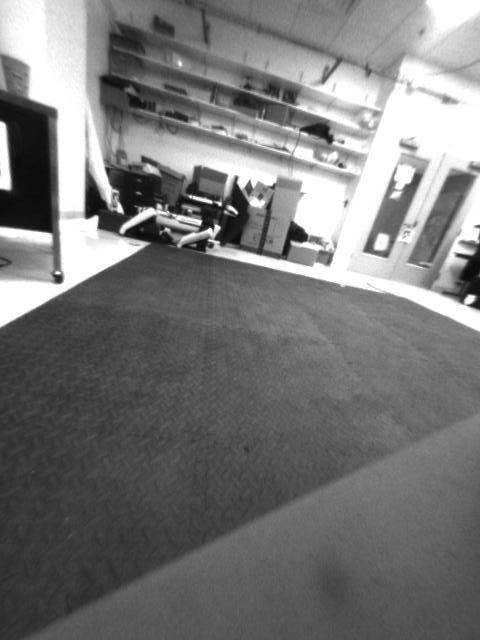coffee_cup: (1, 54, 33, 97)
